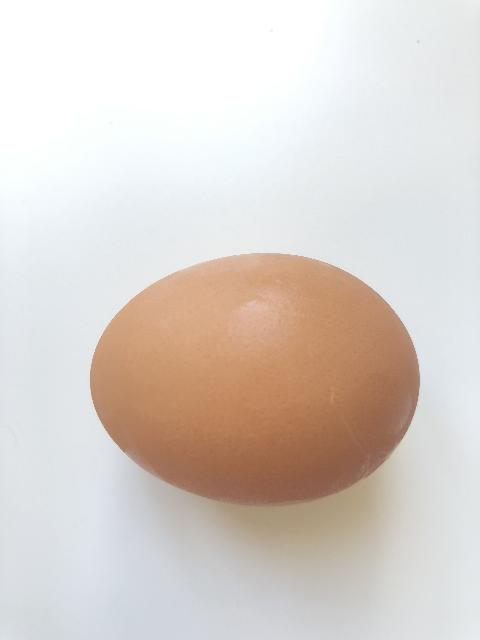Sano: (90, 252, 421, 508)
